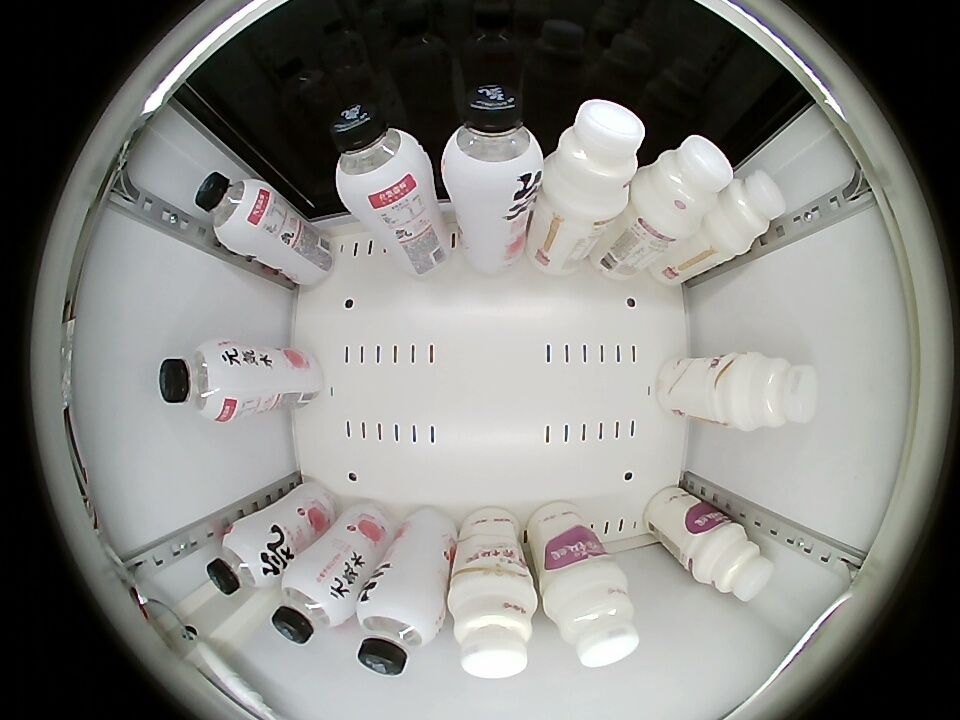yingyangkuaixian: (541, 100, 645, 220), (633, 135, 732, 239), (542, 566, 640, 668), (447, 571, 538, 678), (725, 351, 819, 432), (691, 520, 774, 602), (706, 170, 786, 255)
yuanqishui: (440, 84, 544, 203), (331, 103, 431, 212), (355, 581, 444, 675), (159, 340, 246, 423), (272, 560, 353, 645), (194, 172, 274, 250), (205, 522, 283, 596)
